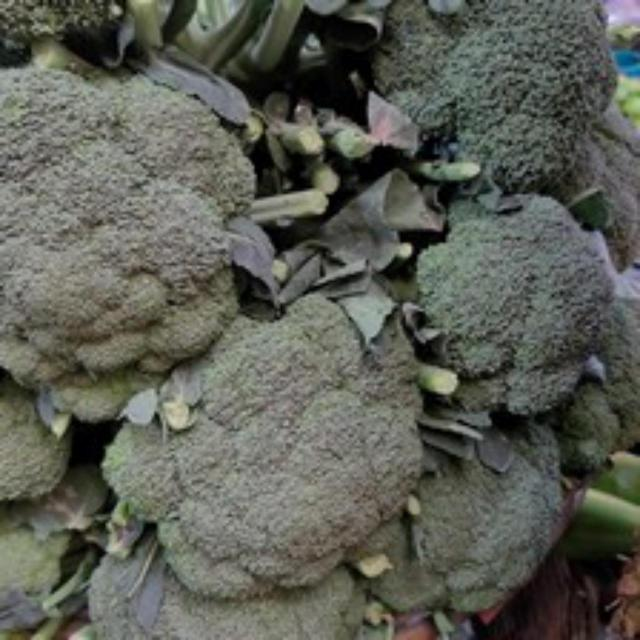broccoli: (102, 291, 434, 635)
